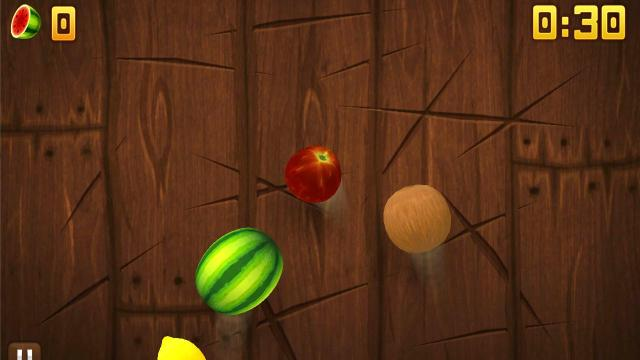fruit: (194, 226, 284, 314), (383, 185, 451, 253), (284, 144, 342, 204), (156, 336, 206, 360)
ignore: (8, 2, 44, 42)
